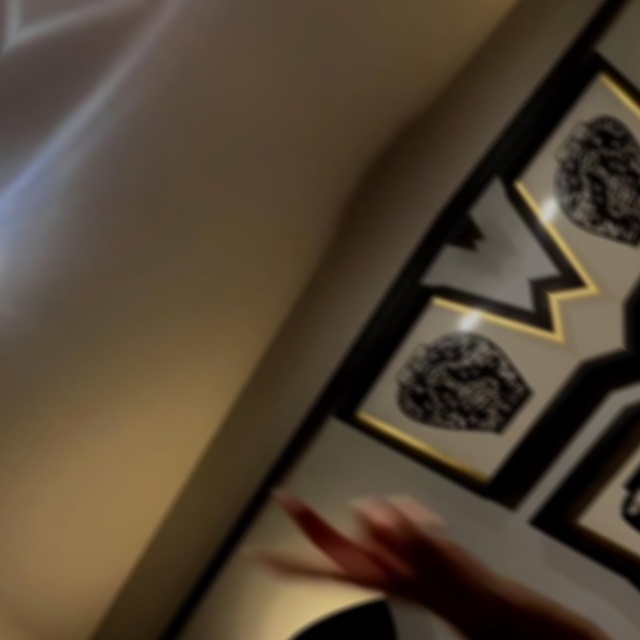Scissors: (572, 0, 640, 175)
